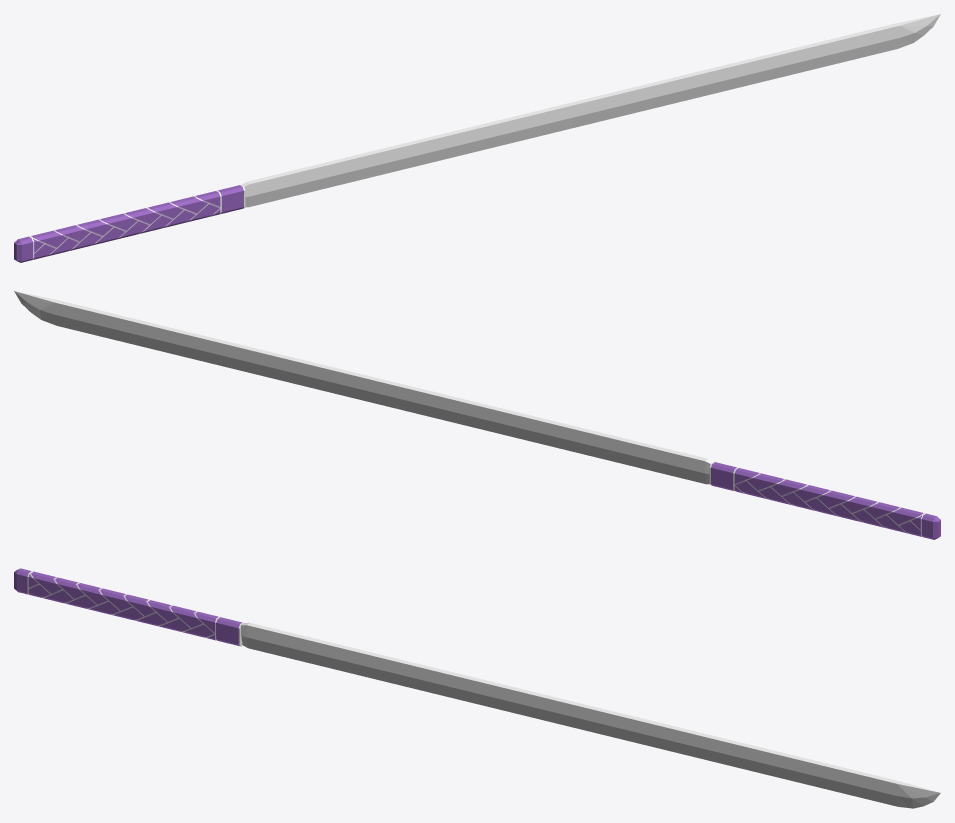
File: SusanooBlade.fbx
3 views of the same model, one above another, from view 1: azimuth 30°, elevation 25°; view 2: azimuth 150°, elevation 25°; view 3: azimuth 330°, elevation 25° (orthographic).
Visible parts, largest first — view 1: SM_WEP_SusanooSasukeSword.mo; view 2: SM_WEP_SusanooSasukeSword.mo; view 3: SM_WEP_SusanooSasukeSword.mo.
Boxes of the visible parts, bbox=[...] form: SM_WEP_SusanooSasukeSword.mo: bbox=[14, 14, 940, 262]; SM_WEP_SusanooSasukeSword.mo: bbox=[14, 291, 940, 539]; SM_WEP_SusanooSasukeSword.mo: bbox=[14, 568, 940, 808].
Bounding box in the file's own units: 528 × 13.31 × 5.4.
